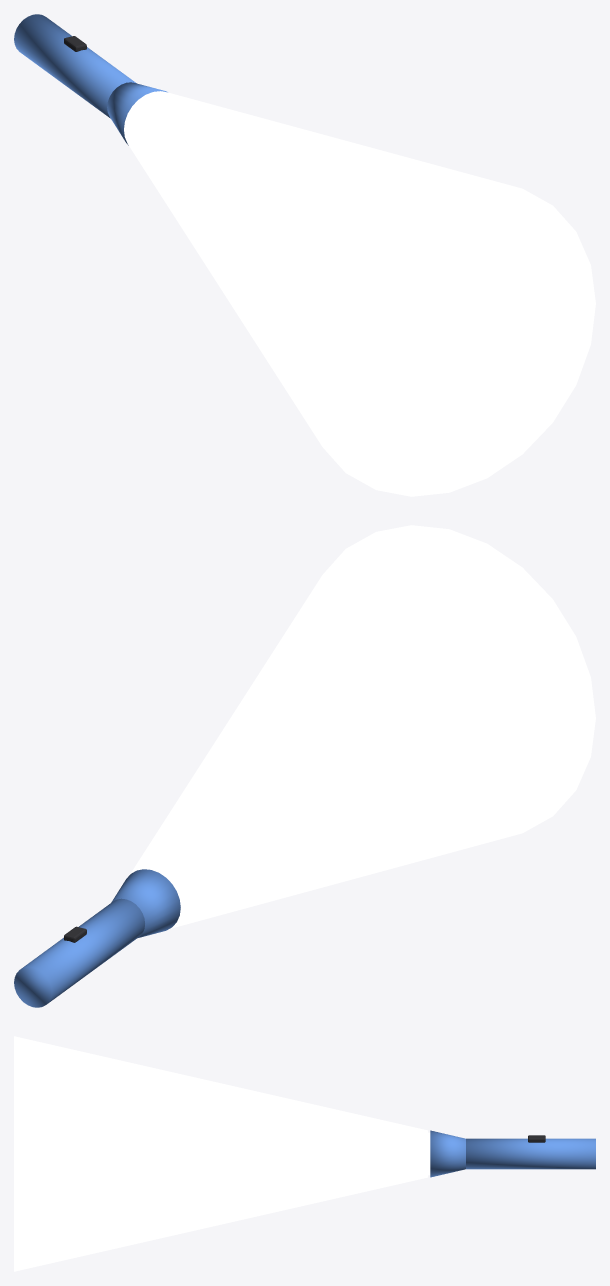
The model's file is flashlight.glb.
3 views of the same model, one above another, from view 1: azimuth 30°, elevation 25°; view 2: azimuth 150°, elevation 25°; view 3: azimuth 270°, elevation 25° (orthographic). The views are drawn at different scales.
Visible parts, largest first — view 1: beam_cone, torch_body, torch_head; view 2: beam_cone, torch_body, torch_head; view 3: beam_cone, torch_body, torch_head.
Part boxes in pixels (x1=…): beam_cone: x1=124, y1=91, x2=595, y2=496; torch_body: x1=14, y1=14, x2=136, y2=118; torch_head: x1=107, y1=82, x2=167, y2=145; beam_cone: x1=130, y1=525, x2=595, y2=928; torch_body: x1=14, y1=898, x2=144, y2=1007; torch_head: x1=111, y1=869, x2=180, y2=937; beam_cone: x1=14, y1=1036, x2=427, y2=1271; torch_body: x1=466, y1=1138, x2=595, y2=1169; torch_head: x1=430, y1=1130, x2=465, y2=1177.
Bounding box in the file's own units: 0.2 × 0.2 × 0.492.
